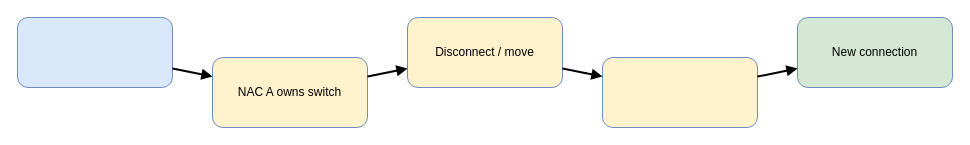
Image size: 970x145. Some labels were removed from this diagram. Each missing label, with the centre of its shape:
"Host on area A" belongs at point 94,52.
"NAC B owns switch" belongs at point 680,92.
